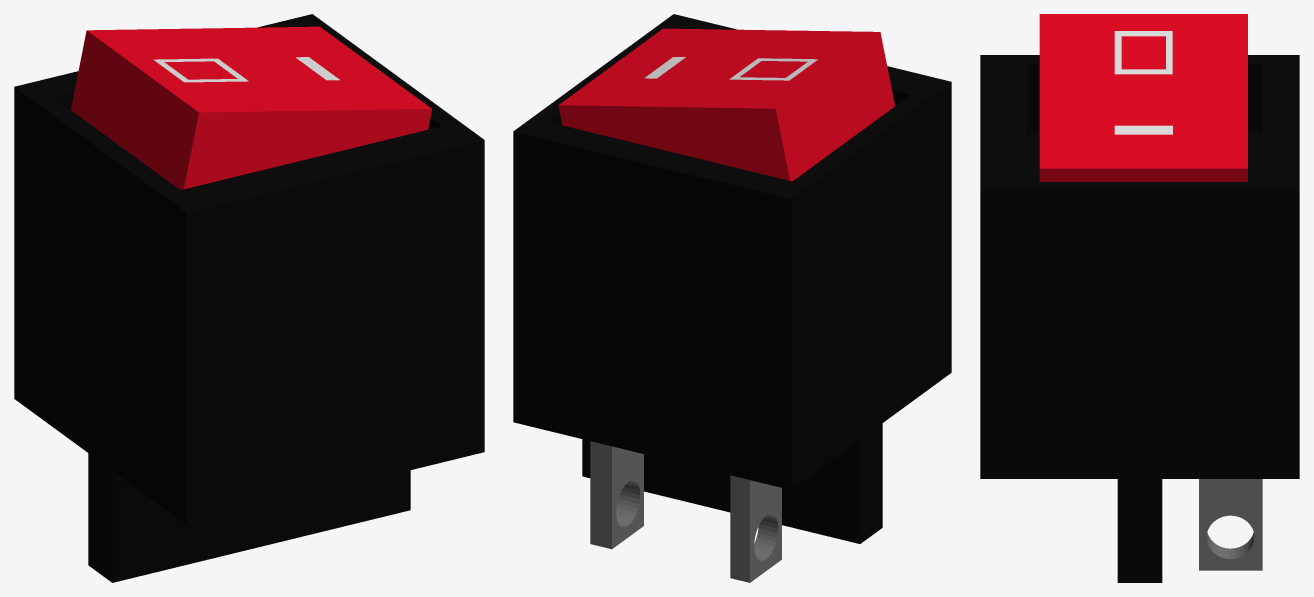
The model's file is switch.glb.
3 views of the same model, side by side, from view 1: azimuth 30°, elevation 25°; view 2: azimuth 150°, elevation 25°; view 3: azimuth 270°, elevation 25° (orthographic). The views are drawn at different scales.
Visible parts, largest first — view 1: Cube_0, Cube.001_3; view 2: Cube_0, Cube.001_3; view 3: Cube_0, Cube.001_3.
Boxes of the visible parts, x1,y1,x2,y2 form: Cube_0: [14, 14, 484, 582]; Cube.001_3: [71, 26, 432, 189]; Cube_0: [513, 14, 951, 582]; Cube.001_3: [558, 28, 894, 181]; Cube_0: [980, 55, 1299, 582]; Cube.001_3: [1039, 14, 1247, 181].
Size of the model in its own units: 2 by 3.25 by 2.
